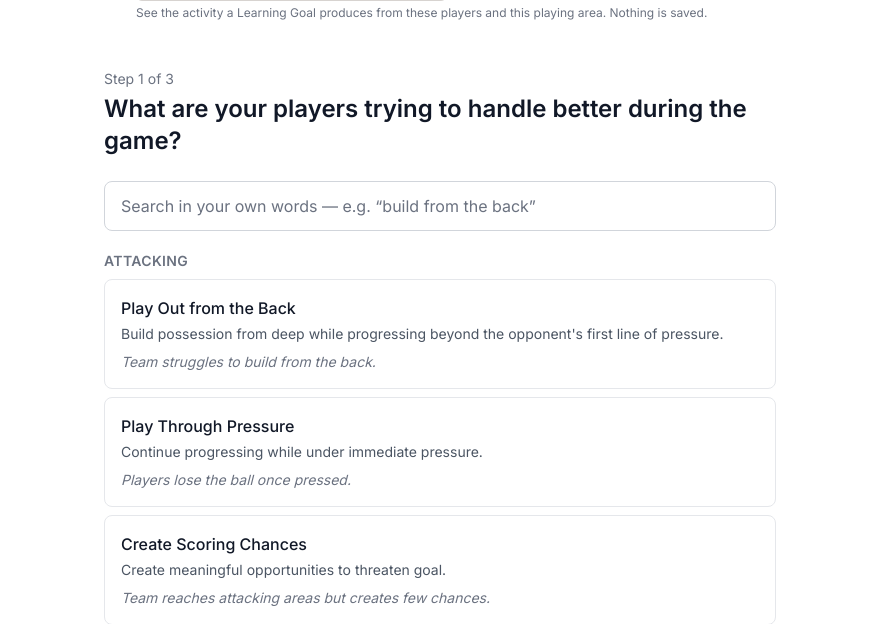
Test: the status notice beside an activity the checked pathway did not build › the checked activity on the live route shows no notice
Step 1. Click the button that starts with "Play Out from the Back" → click(440, 334), box [104,279,776,389]
(page scrolled)
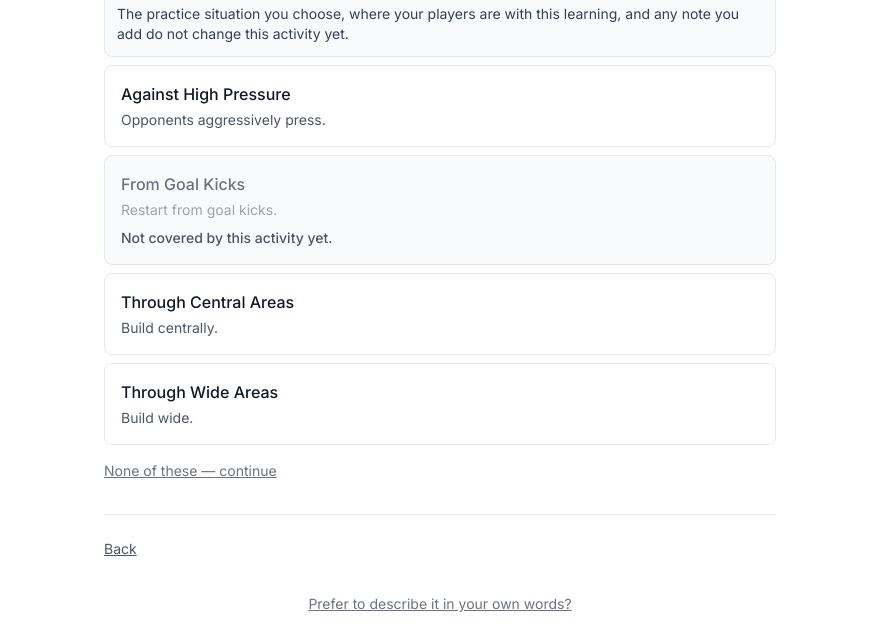
Step 2. Click the button "None of these — continue" → click(190, 467), box [104,453,277,481]
(page scrolled)
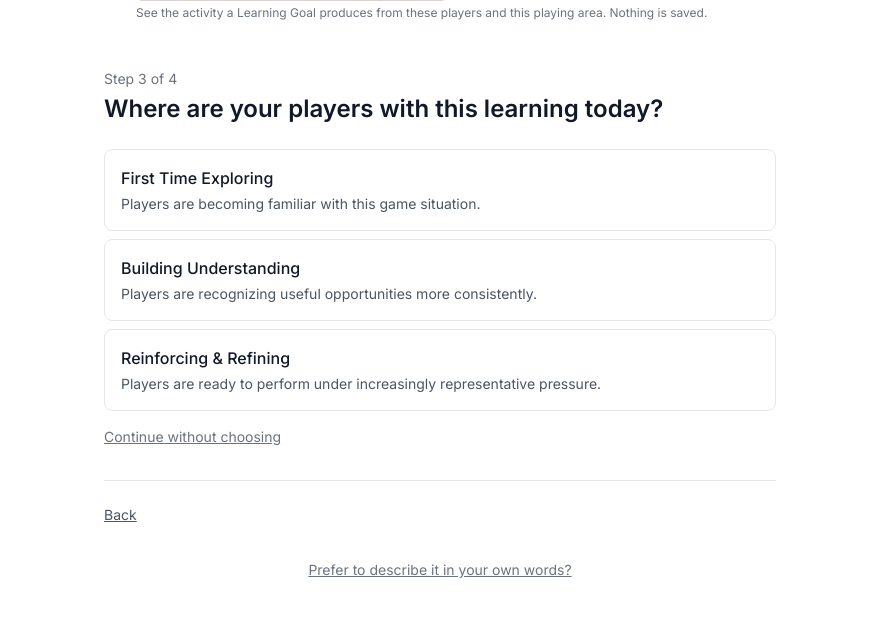
Step 3. Click the button "First Time Exploring" → click(197, 178), box [104,149,776,231]
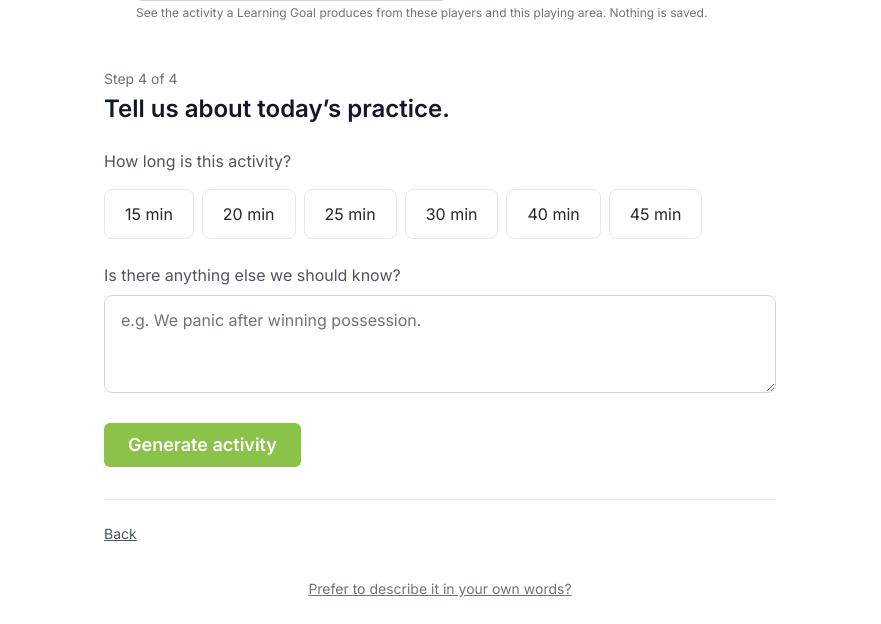
Step 4. Click the button "20 min" → click(249, 214), box [202,189,296,239]
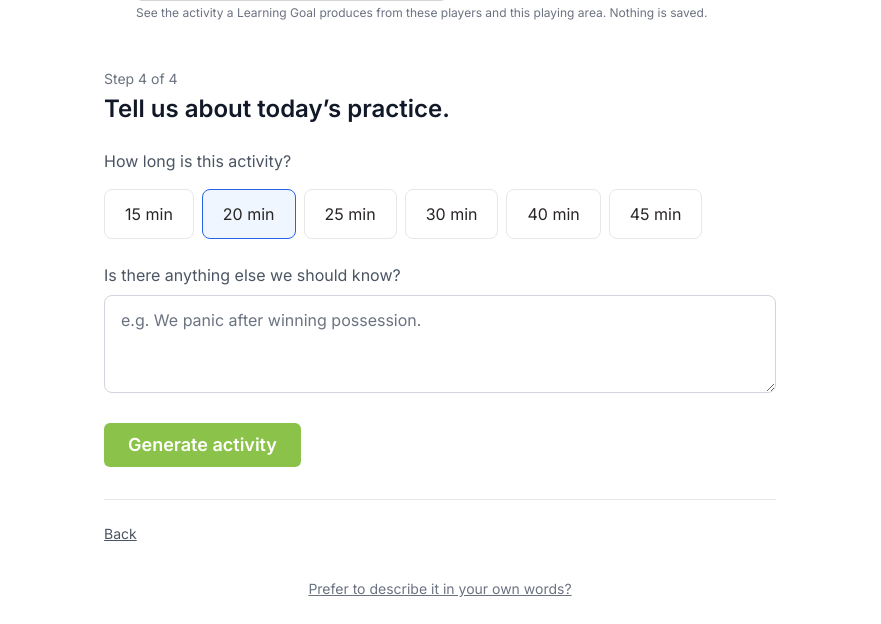
Step 5. Click the button "Generate activity" → click(202, 445), box [104,423,301,467]
(page scrolled)
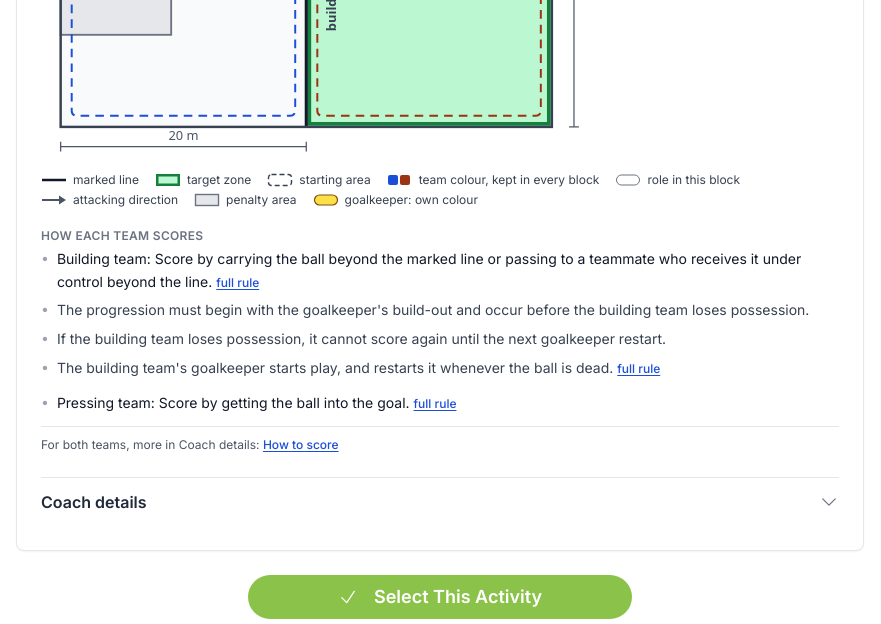
Check: the button "Select This Activity" is shown, box [248,575,632,619]
